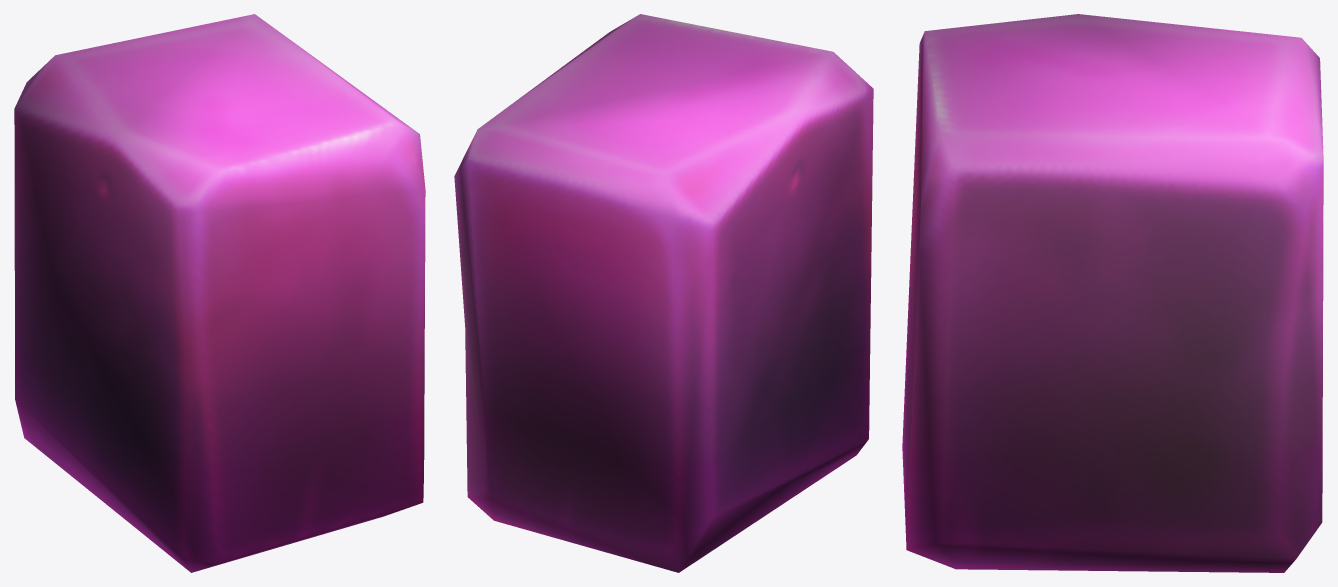
File: SM_Gem_Kunzite_Piece_003.fbx
The picture shows the model from 3 angles, left to right: view 1: azimuth 30°, elevation 25°; view 2: azimuth 150°, elevation 25°; view 3: azimuth 270°, elevation 25°; orthographic projection. The views are drawn at different scales.
Visible parts, largest first — view 1: SM_Gem_Kunzite_Piece_003; view 2: SM_Gem_Kunzite_Piece_003; view 3: SM_Gem_Kunzite_Piece_003.
Part boxes in pixels (box(x1,y1,x2,y2)): SM_Gem_Kunzite_Piece_003: box(14, 14, 425, 572); SM_Gem_Kunzite_Piece_003: box(454, 14, 873, 572); SM_Gem_Kunzite_Piece_003: box(902, 14, 1323, 572).
Size of the model in its own units: 9.17 by 13.66 by 11.76.
